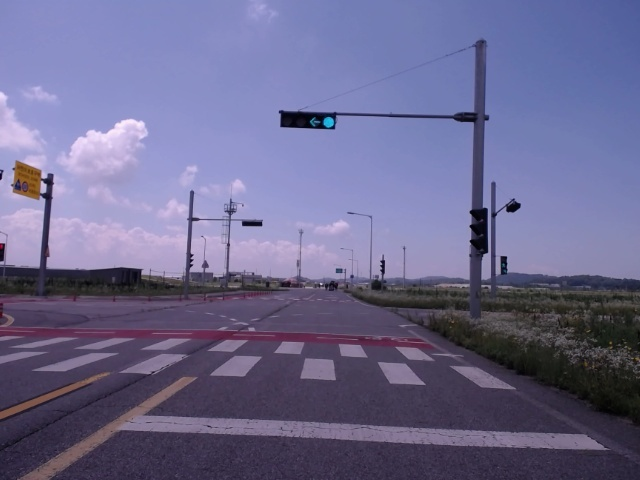all_green_4: (273, 110, 341, 130)
